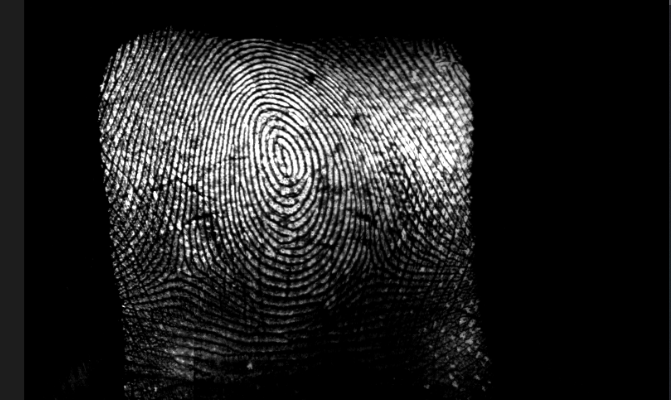deltas: (154, 233, 211, 298), (347, 237, 397, 292)
nucleo: (253, 114, 309, 181)
